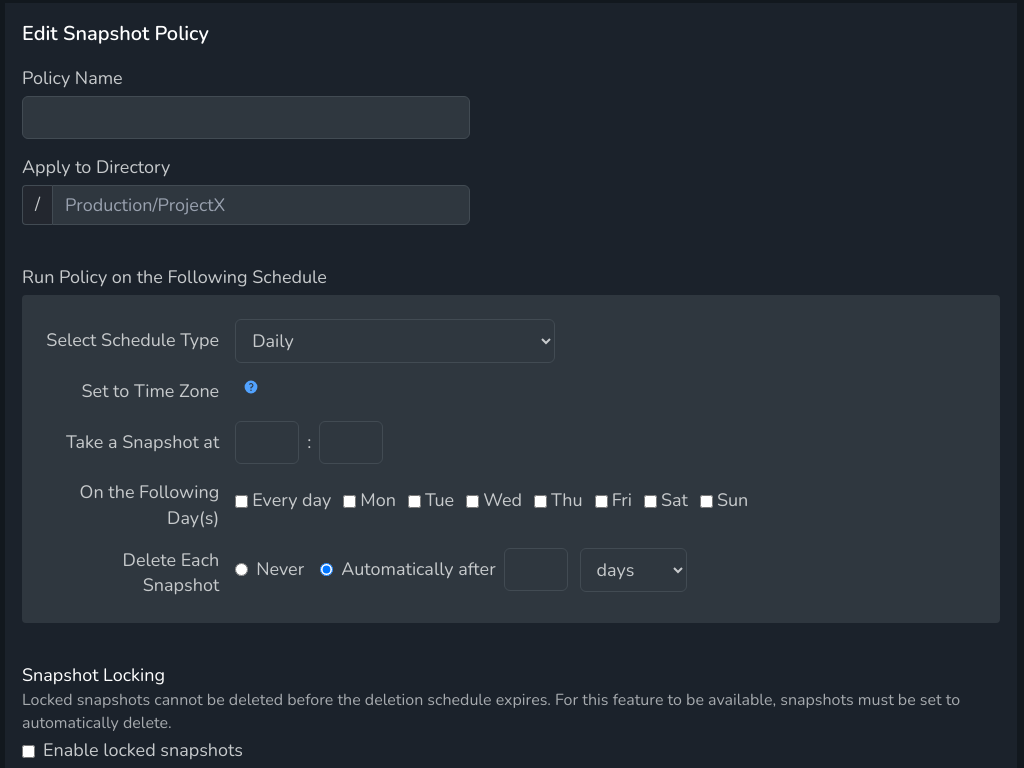
Test: SnapshotPolicyForm › locking is disabled if deleteAfter is "Never"
The width and height of the screenshot is (1024, 768).
Click the radio button labelled "Never" at (242,570), box [235,563,248,576]
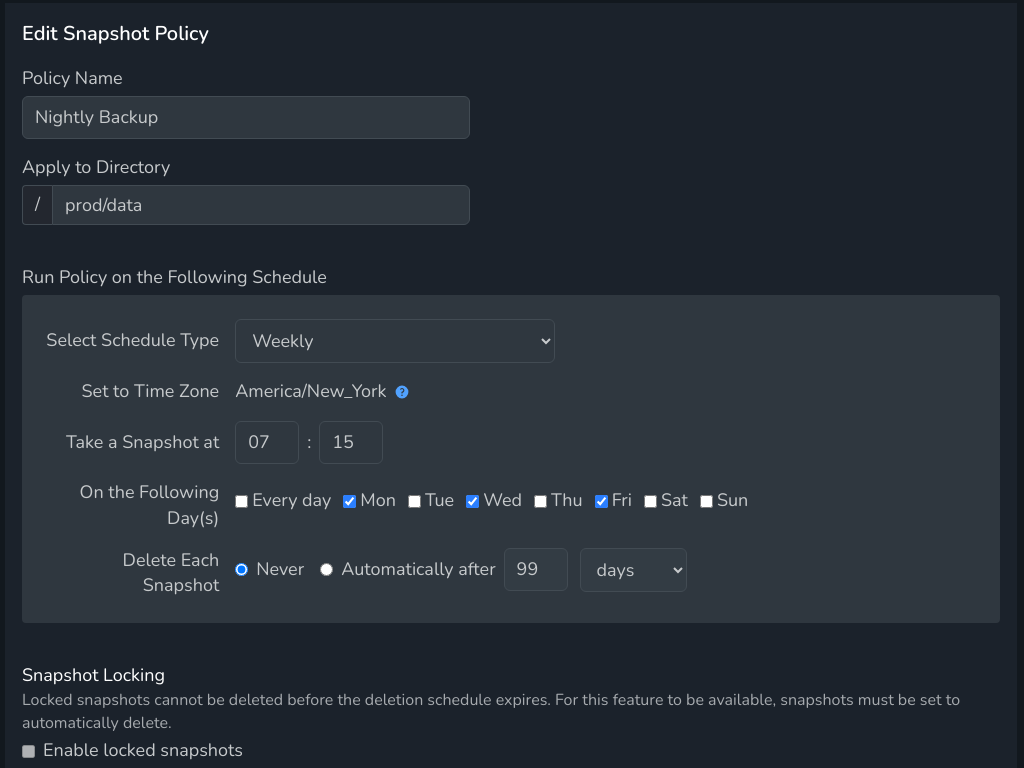
expect the checkbox labelled "Enable locked snapshots" is disabled: met, box [22,745,35,758]
